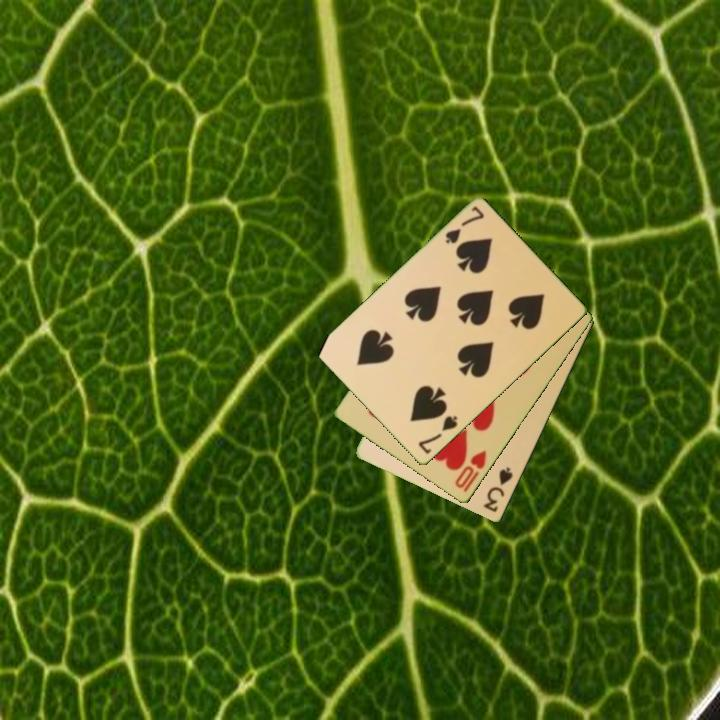10h: (451, 447, 490, 496)
3s: (480, 464, 516, 516)
7s: (415, 412, 461, 458), (442, 203, 487, 247)
